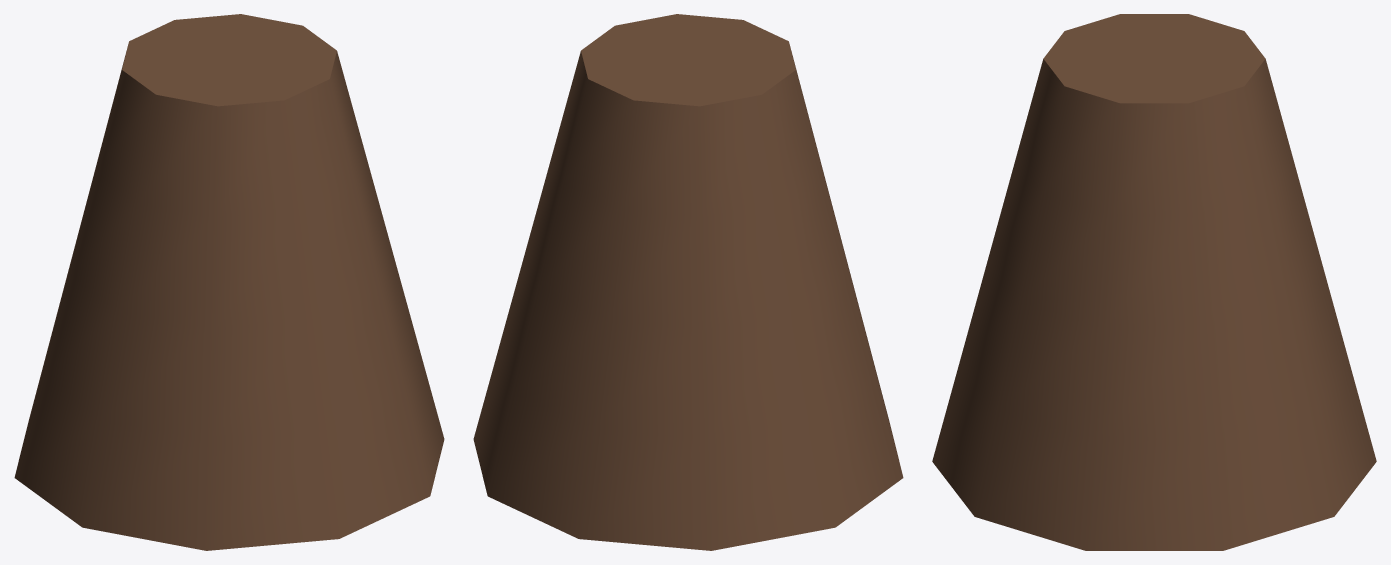
The model's file is stem-wood.glb.
The picture shows the model from 3 angles, left to right: view 1: azimuth 30°, elevation 25°; view 2: azimuth 150°, elevation 25°; view 3: azimuth 270°, elevation 25°; orthographic projection.
Visible parts, largest first — view 1: surface; view 2: surface; view 3: surface.
Part boxes in pixels (bbox=[...]): surface: bbox=[14, 14, 444, 550]; surface: bbox=[473, 14, 903, 550]; surface: bbox=[932, 14, 1376, 550].
Size of the model in its own units: 0.9511 by 1 by 1.
